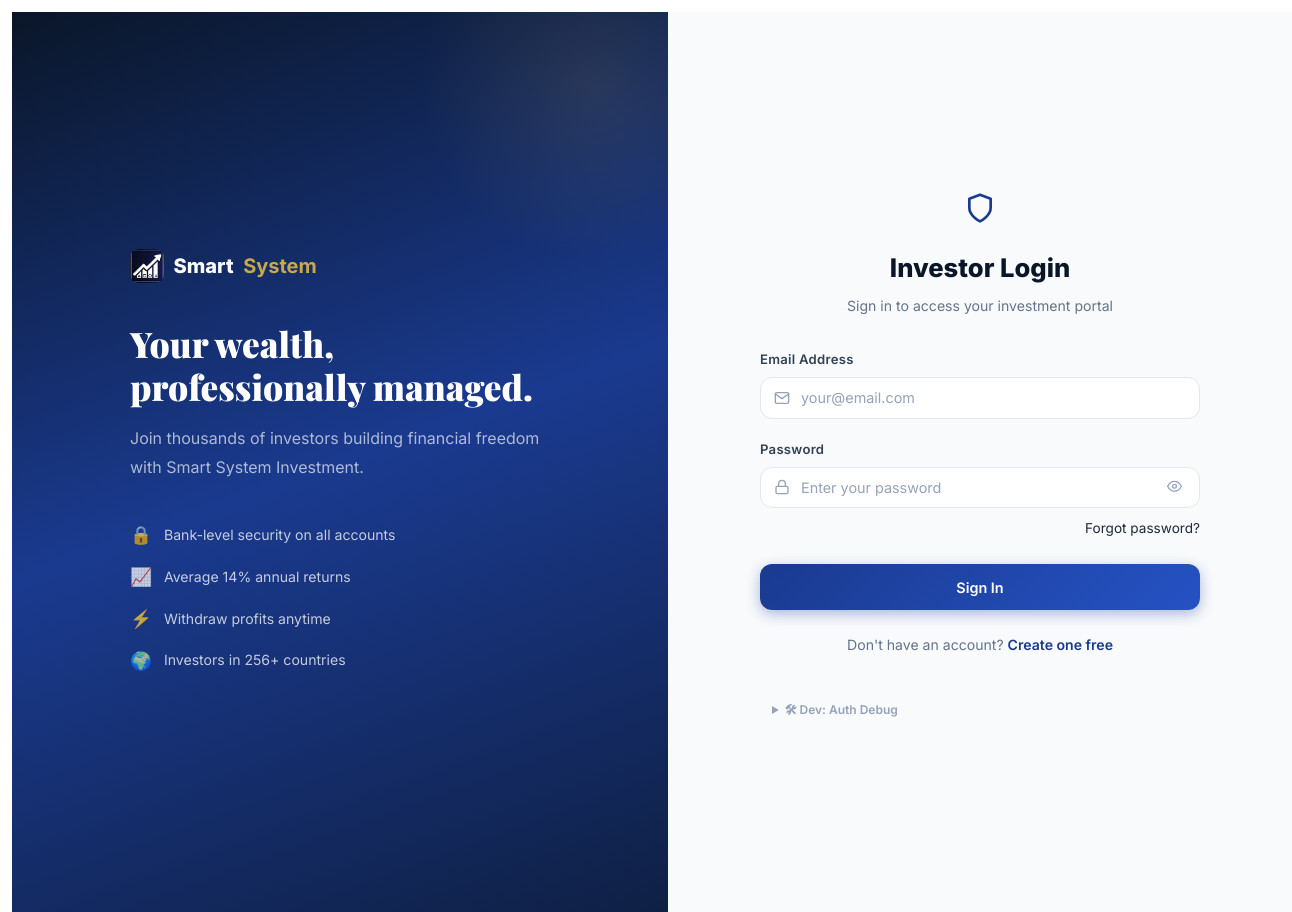
Test: LoginPage — where each role goes after a successful login › investor → INVESTOR DASHBOARD
Type "someone@ssi-dev.test" into the field with placeholder "your@email.com" at (980,398), box [760,377,1200,419]
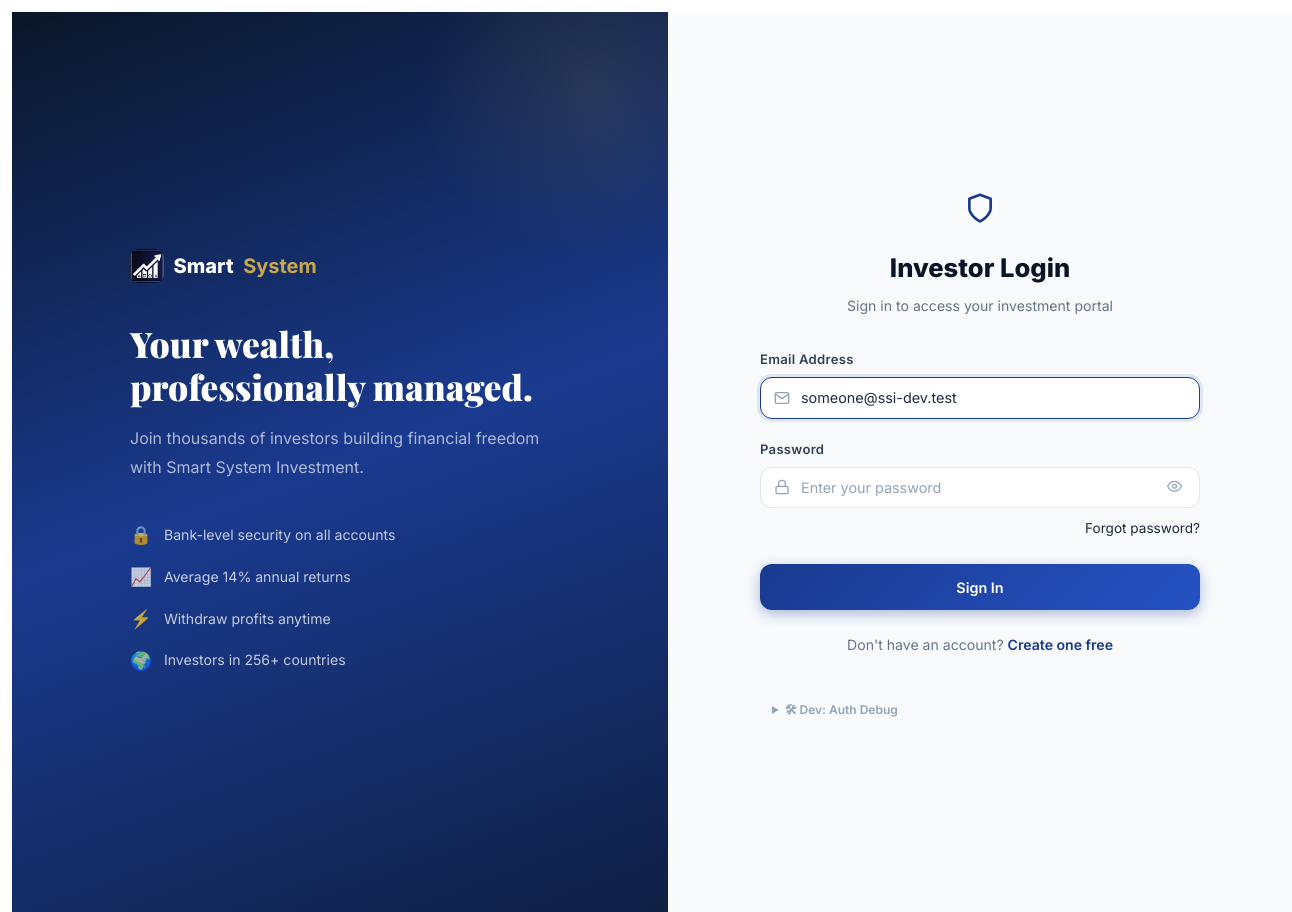
Type "not-a-real-password" into the password field with placeholder "Enter your password" at (980,488), box [760,467,1200,508]
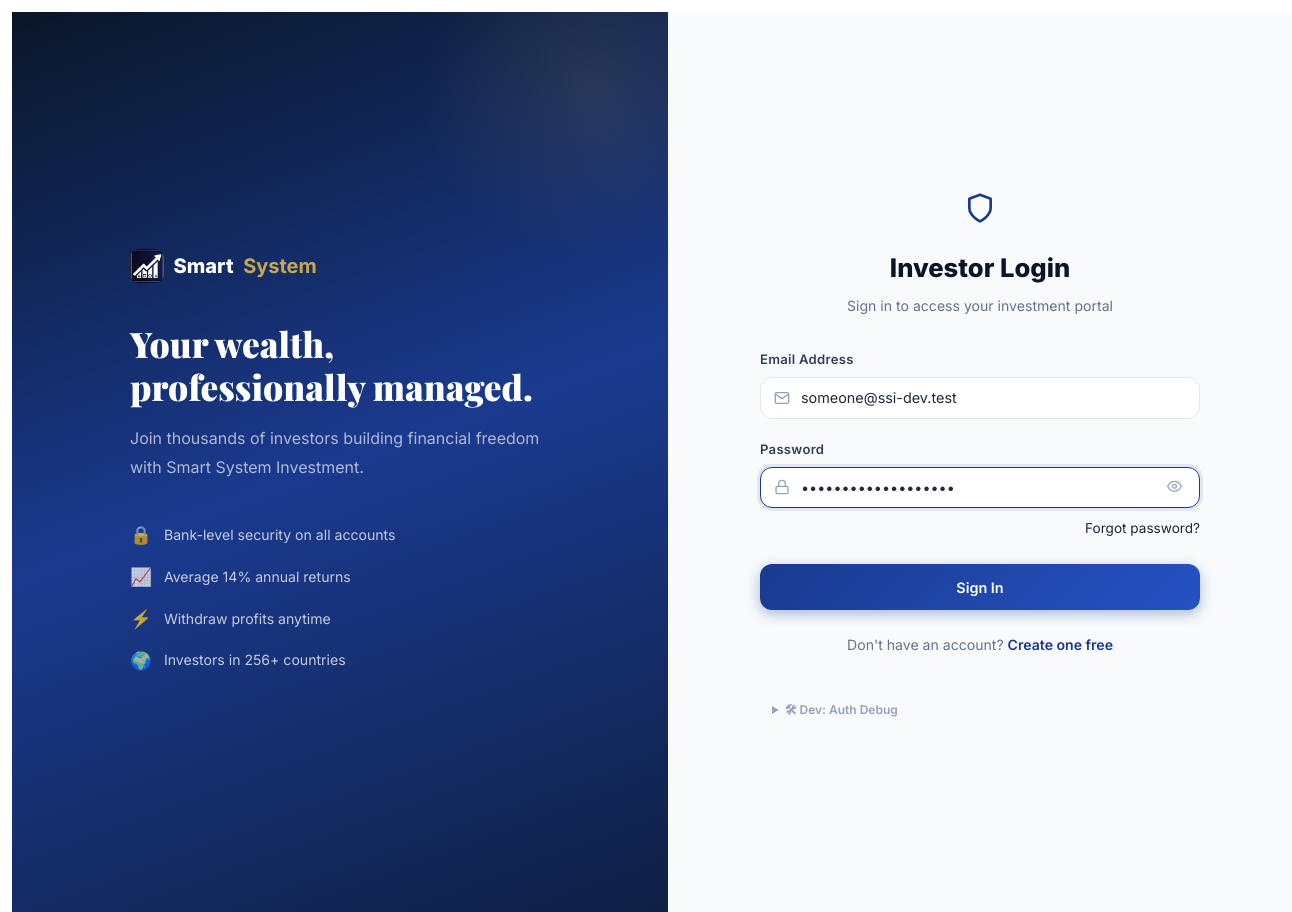
Click the button "Sign In" at (980,587), box [760,564,1200,610]
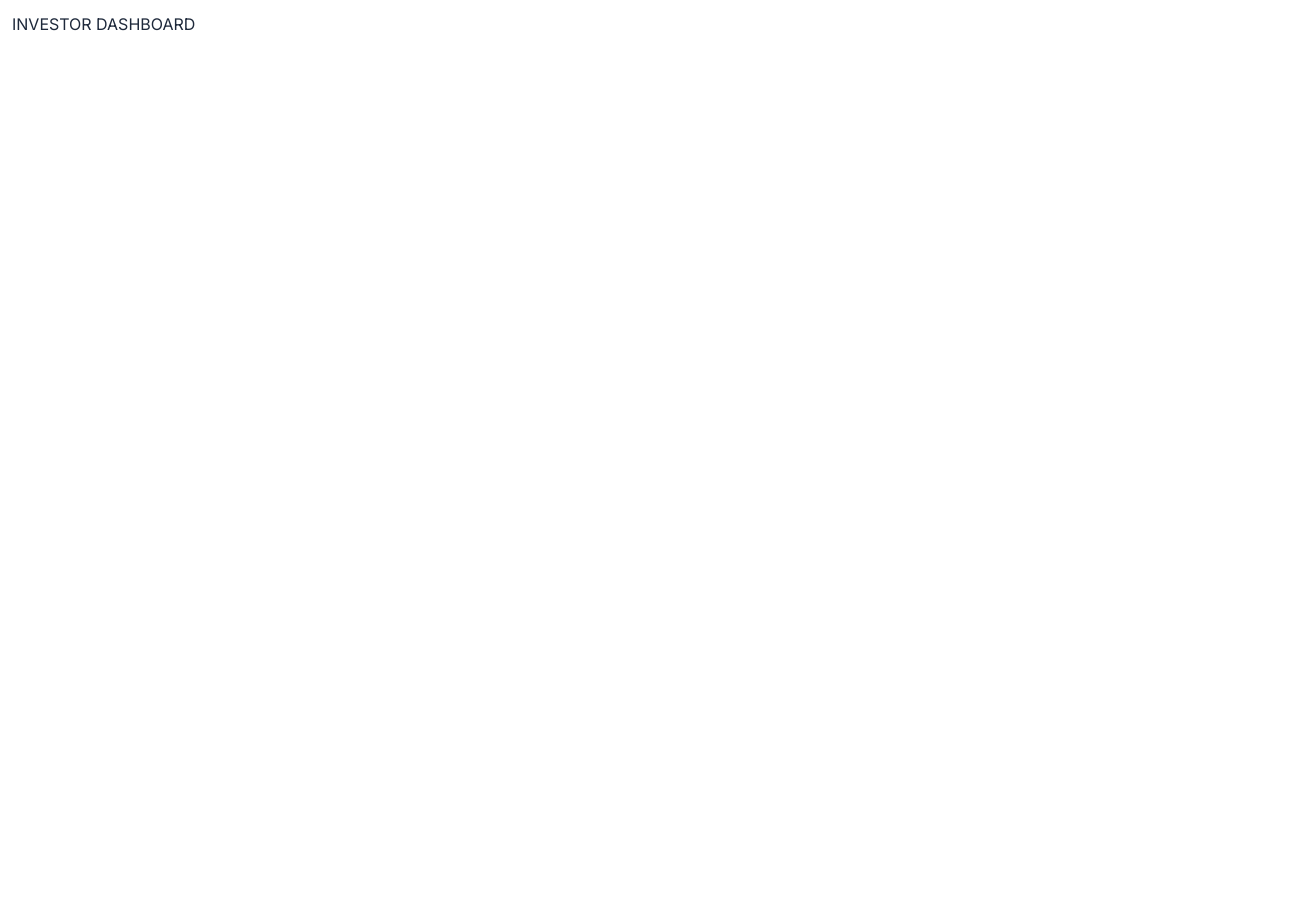
expect the text "INVESTOR DASHBOARD" is shown: met, box [12,14,195,34]
